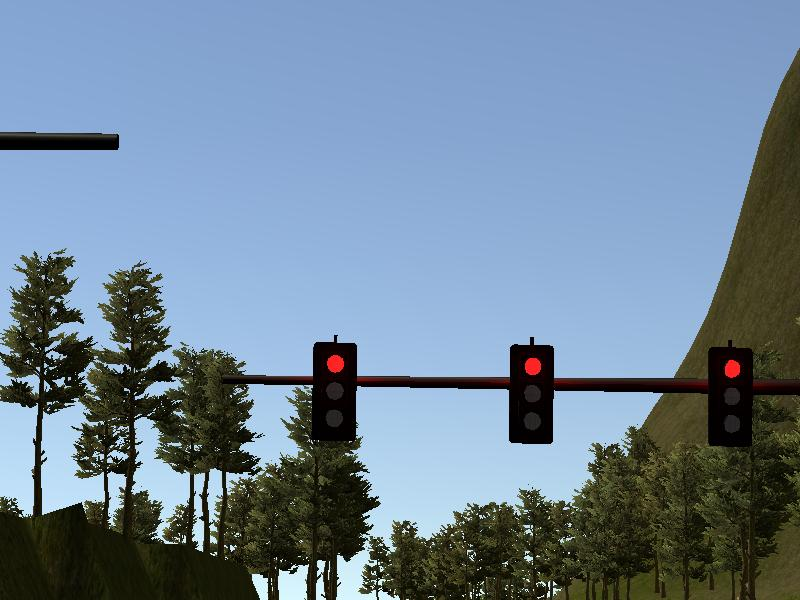Red: (510, 342, 552, 444), (709, 348, 750, 447), (314, 342, 355, 438)
